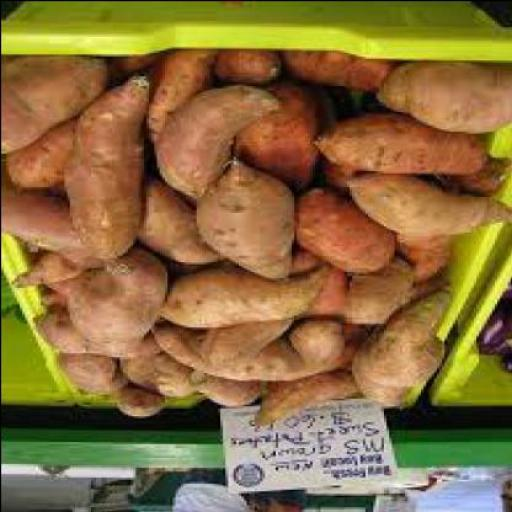biodegradable: (68, 75, 158, 267), (156, 85, 285, 202), (42, 253, 166, 362), (195, 156, 299, 284), (2, 57, 111, 156), (312, 120, 488, 180), (350, 288, 452, 390), (380, 59, 511, 138), (238, 87, 332, 196), (354, 174, 511, 238), (166, 265, 328, 326), (148, 322, 309, 383), (300, 192, 399, 278), (142, 46, 216, 146), (32, 308, 170, 358), (140, 186, 224, 267), (8, 120, 79, 200), (258, 375, 362, 427), (203, 324, 302, 374), (340, 259, 414, 324), (280, 53, 391, 95), (285, 320, 349, 380), (124, 352, 201, 399), (396, 231, 451, 285), (60, 356, 127, 398), (438, 160, 510, 199), (188, 374, 264, 409), (16, 257, 84, 293), (214, 52, 280, 88), (304, 265, 346, 320), (113, 386, 166, 423), (359, 377, 414, 409), (480, 301, 511, 357), (116, 51, 161, 83), (288, 247, 330, 277), (324, 160, 359, 192), (404, 277, 440, 306), (42, 290, 71, 312), (502, 356, 512, 374), (506, 288, 511, 300)
